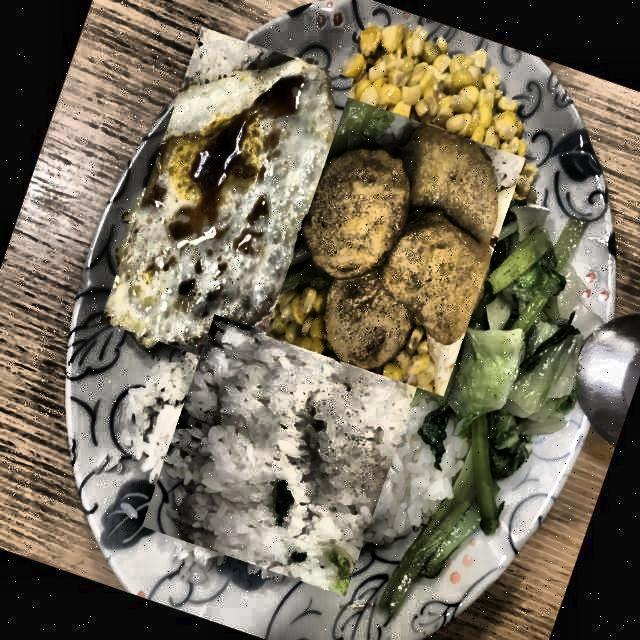Food: (99, 25, 354, 374), (264, 96, 525, 397), (140, 315, 420, 595)
